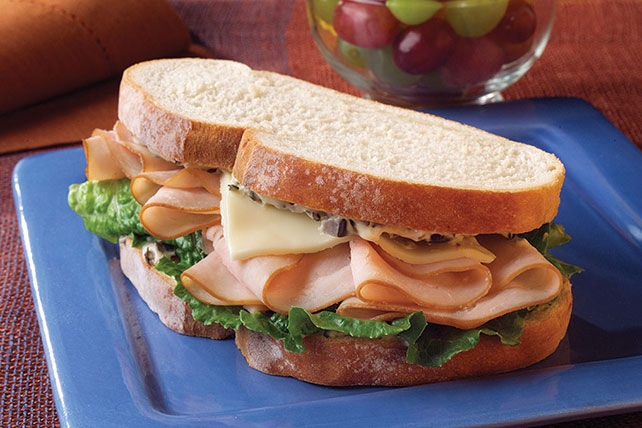background: (66, 37, 585, 257), (227, 0, 538, 63)
